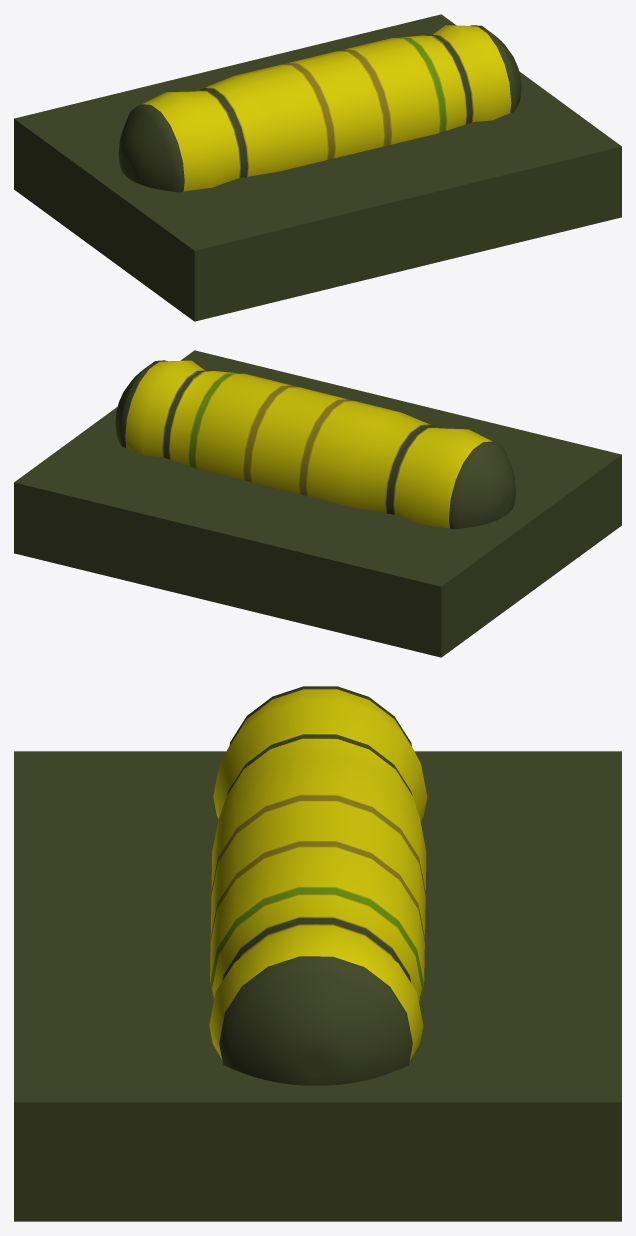
The model's file is Resistor[1].fbx.
3 views of the same model, one above another, from view 1: azimuth 30°, elevation 25°; view 2: azimuth 150°, elevation 25°; view 3: azimuth 270°, elevation 25° (orthographic). The views are drawn at different scales.
Parts seen in each view (by area): view 1: Box001, Cylinder001, Cylinder002; view 2: Box001, Cylinder001, Cylinder002; view 3: Box001, Cylinder001, Cylinder002.
Part boxes in pixels (x1,y1,x2,y2): Box001: [14, 14, 621, 321]; Cylinder001: [142, 25, 511, 191]; Cylinder002: [118, 25, 521, 192]; Box001: [14, 350, 621, 657]; Cylinder001: [125, 360, 492, 528]; Cylinder002: [115, 360, 515, 529]; Box001: [14, 751, 621, 1221]; Cylinder001: [209, 689, 427, 1060]; Cylinder002: [219, 686, 412, 1085].
Size of the model in its own units: 25.3 by 7.86 by 18.51.
Materials: 3 (3 with a texture image).
